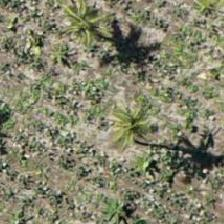coconut_tree: (79, 73, 169, 163), (30, 0, 120, 59)
